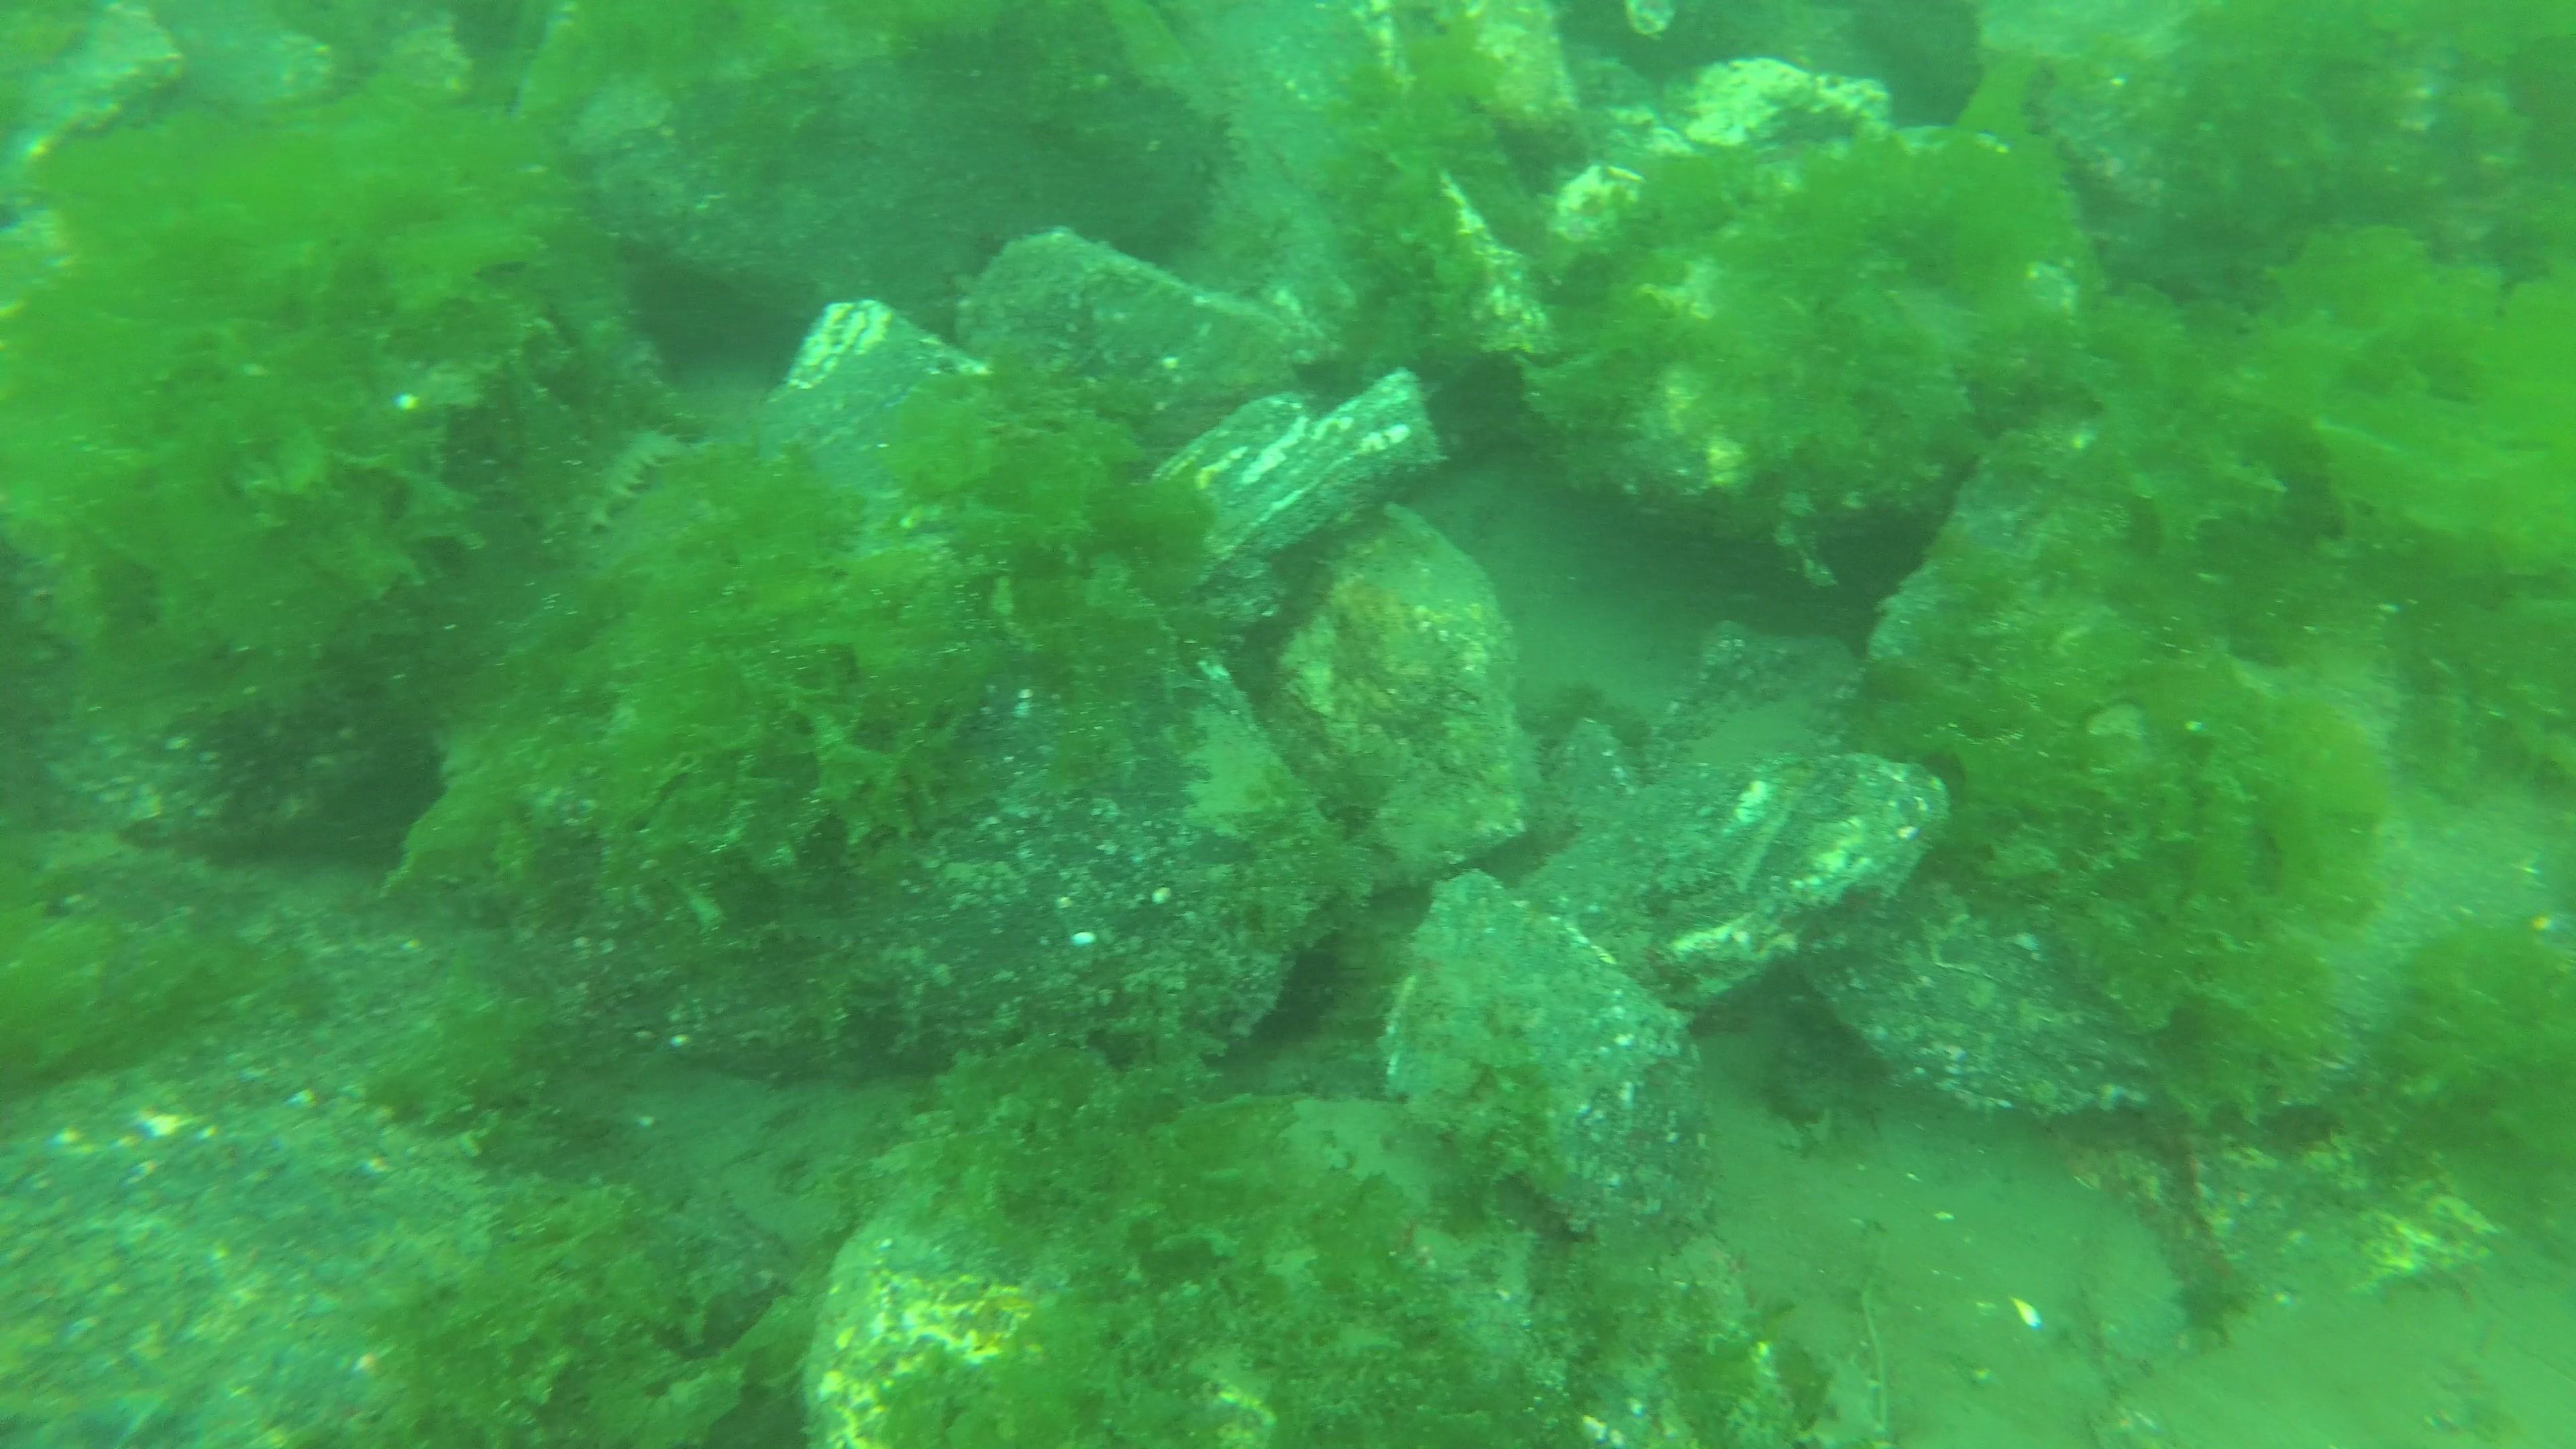echinus: (1253, 947, 1353, 1040)
holothurian: (541, 423, 690, 545), (1813, 1355, 1884, 1449)
